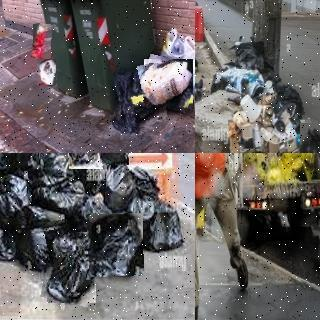Garbage: (44, 230, 100, 305), (110, 65, 167, 137), (87, 214, 144, 277), (141, 56, 195, 111), (14, 222, 73, 271), (138, 199, 189, 251), (103, 162, 140, 211), (0, 173, 32, 221), (274, 79, 304, 118), (0, 216, 20, 265), (297, 120, 320, 153), (236, 42, 264, 69), (32, 24, 52, 59), (69, 153, 103, 169), (183, 49, 195, 94), (37, 59, 56, 85), (98, 153, 130, 165)
